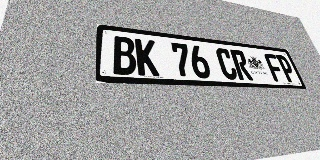6: (187, 44, 212, 79)
7: (170, 42, 194, 78)
B: (112, 36, 137, 75)
C: (215, 48, 239, 80)
F: (263, 53, 287, 82)
K: (135, 38, 159, 76)
P: (275, 55, 298, 82)
R: (229, 49, 254, 80)
